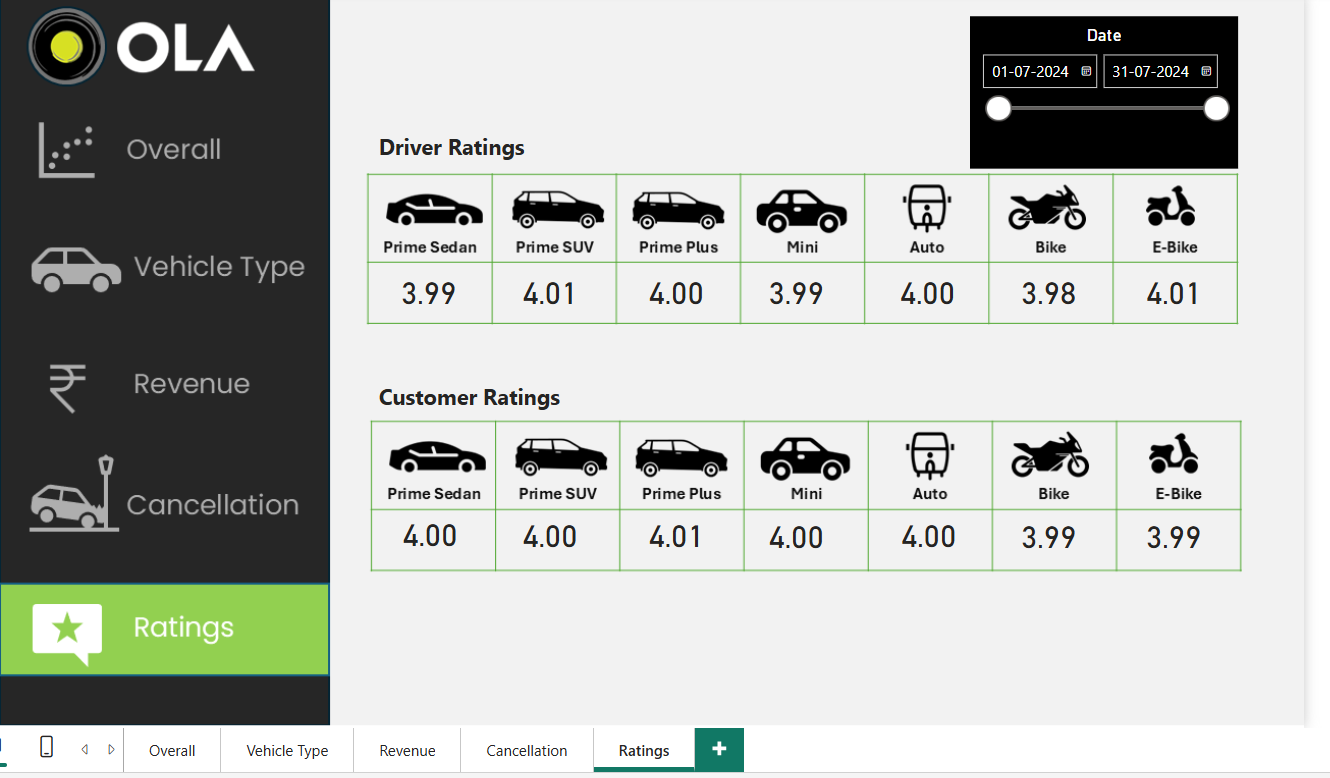

This screenshot's page, from the dashboard's own definition file:
{"tool":"powerbi","page":{"name":"Ratings","canvas":[1280,720],"ordinal":4},"visuals":[{"type":"actionButton","box":[1.4,446,322.5,91.9],"z":0},{"type":"actionButton","box":[0,108.4,322.5,91.9],"z":1000},{"type":"actionButton","box":[2.7,341.7,322.5,91.9],"z":2000},{"type":"actionButton","box":[0,577.7,322.5,91.9],"z":3000},{"type":"actionButton","box":[0,222.3,322.5,91.9],"z":4000},{"type":"card","fields":{"Values":["Avg(July (2).Driver_Ratings)"]},"box":[366.4,269,108.4,45.3],"z":4001},{"type":"card","fields":{"Values":["Avg(July (2).Driver_Ratings)"]},"box":[485.8,269,108.4,45.3],"z":4002},{"type":"card","fields":{"Values":["Avg(July (2).Driver_Ratings)"]},"box":[609.3,269,108.4,45.3],"z":4003},{"type":"card","fields":{"Values":["Avg(July (2).Driver_Ratings)"]},"box":[727.3,269,108.4,45.3],"z":4004},{"type":"card","fields":{"Values":["Avg(July (2).Driver_Ratings)"]},"box":[856.3,269,108.4,45.3],"z":4005},{"type":"card","fields":{"Values":["Avg(July (2).Driver_Ratings)"]},"box":[975.6,269,108.4,45.3],"z":4006},{"type":"card","fields":{"Values":["Avg(July (2).Driver_Ratings)"]},"box":[1097.8,269,108.4,45.3],"z":4007},{"type":"card","fields":{"Values":["Avg(July (2).Customer_Rating)"]},"box":[367.8,505,108.4,45.3],"z":4008},{"type":"textbox","box":[366.4,129,164.7,41.2],"z":4009},{"type":"textbox","box":[366.4,374.6,209.9,49.4],"z":4010},{"type":"card","fields":{"Values":["Avg(July (2).Customer_Rating)"]},"box":[485.8,506.3,108.4,45.3],"z":4011},{"type":"card","fields":{"Values":["Avg(July (2).Customer_Rating)"]},"box":[609.3,506.3,108.4,45.3],"z":4012},{"type":"card","fields":{"Values":["Avg(July (2).Customer_Rating)"]},"box":[727.3,507.7,108.4,45.3],"z":4013},{"type":"card","fields":{"Values":["Avg(July (2).Customer_Rating)"]},"box":[857.6,506.3,108.4,45.3],"z":4014},{"type":"card","fields":{"Values":["Avg(July (2).Customer_Rating)"]},"box":[975.6,507.7,108.4,45.3],"z":4015},{"type":"card","fields":{"Values":["Avg(July (2).Customer_Rating)"]},"box":[1097.8,507.7,108.4,45.3],"z":4016},{"type":"slicer","title":"Date","fields":{"Values":["July (2).Date"]},"box":[952.3,20.6,263.5,149.6],"z":4017}]}

Visuals, with their boxes on the page's 1280x720 design canvas (x1, y1, x2, y2). These are canvas units, not pixel positions in the 1330x778 screenshot, which may show the page scaled, cropped or inside an application window:
actionButton: box=[1, 446, 324, 538]
actionButton: box=[0, 108, 322, 200]
actionButton: box=[3, 342, 325, 434]
actionButton: box=[0, 578, 322, 670]
actionButton: box=[0, 222, 322, 314]
card - Avg(July (2).Driver_Ratings): box=[366, 269, 475, 314]
card - Avg(July (2).Driver_Ratings): box=[486, 269, 594, 314]
card - Avg(July (2).Driver_Ratings): box=[609, 269, 718, 314]
card - Avg(July (2).Driver_Ratings): box=[727, 269, 836, 314]
card - Avg(July (2).Driver_Ratings): box=[856, 269, 965, 314]
card - Avg(July (2).Driver_Ratings): box=[976, 269, 1084, 314]
card - Avg(July (2).Driver_Ratings): box=[1098, 269, 1206, 314]
card - Avg(July (2).Customer_Rating): box=[368, 505, 476, 550]
textbox: box=[366, 129, 531, 170]
textbox: box=[366, 375, 576, 424]
card - Avg(July (2).Customer_Rating): box=[486, 506, 594, 552]
card - Avg(July (2).Customer_Rating): box=[609, 506, 718, 552]
card - Avg(July (2).Customer_Rating): box=[727, 508, 836, 553]
card - Avg(July (2).Customer_Rating): box=[858, 506, 966, 552]
card - Avg(July (2).Customer_Rating): box=[976, 508, 1084, 553]
card - Avg(July (2).Customer_Rating): box=[1098, 508, 1206, 553]
"Date" slicer: box=[952, 21, 1216, 170]
